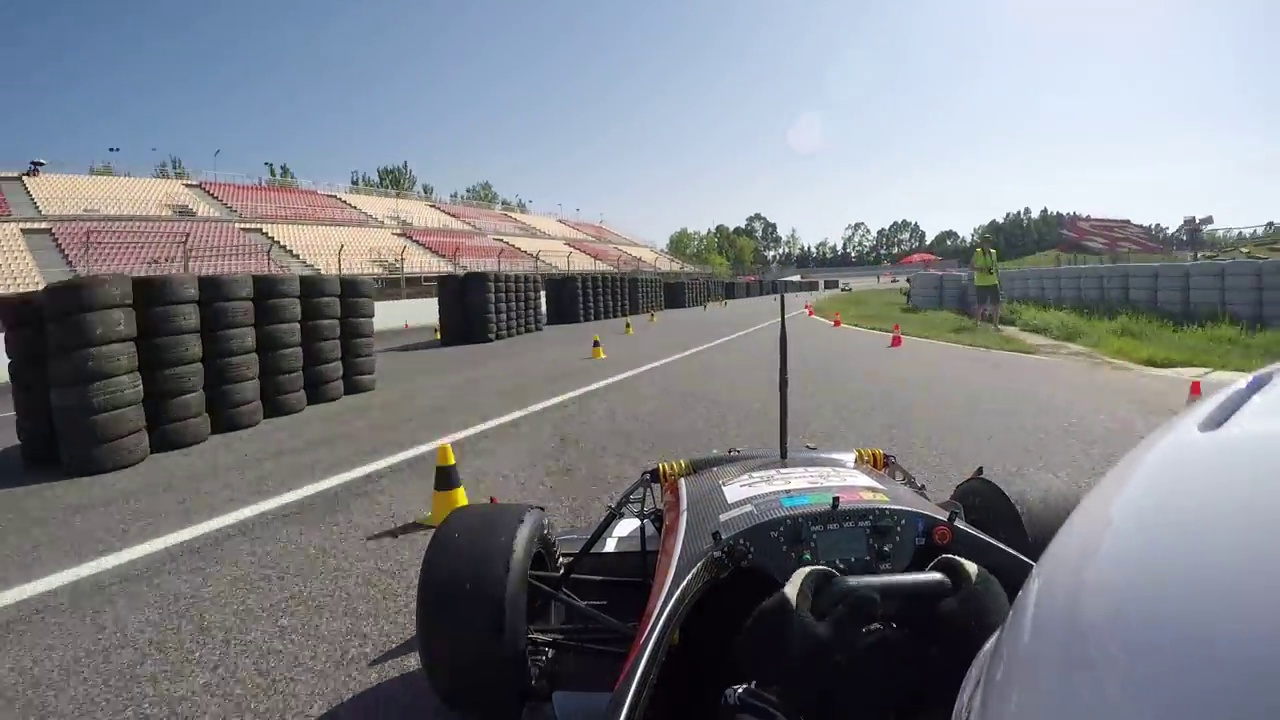Cone: (416, 444, 471, 527)
